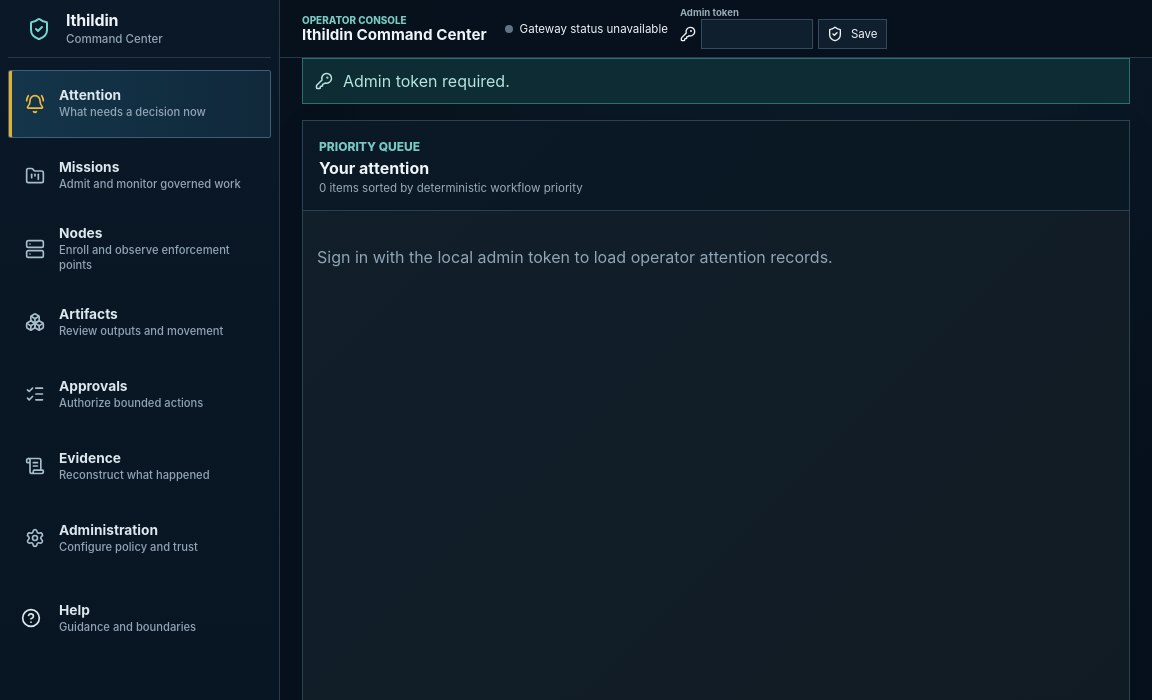
it: Review console interactions › blocks handoff reliance when selected run detail and evidence revisions differ
Step 1. Type "local-token" into the password field labelled "Admin token" → x=757, y=34, box top-left (701, 19), bottom-right (813, 49)
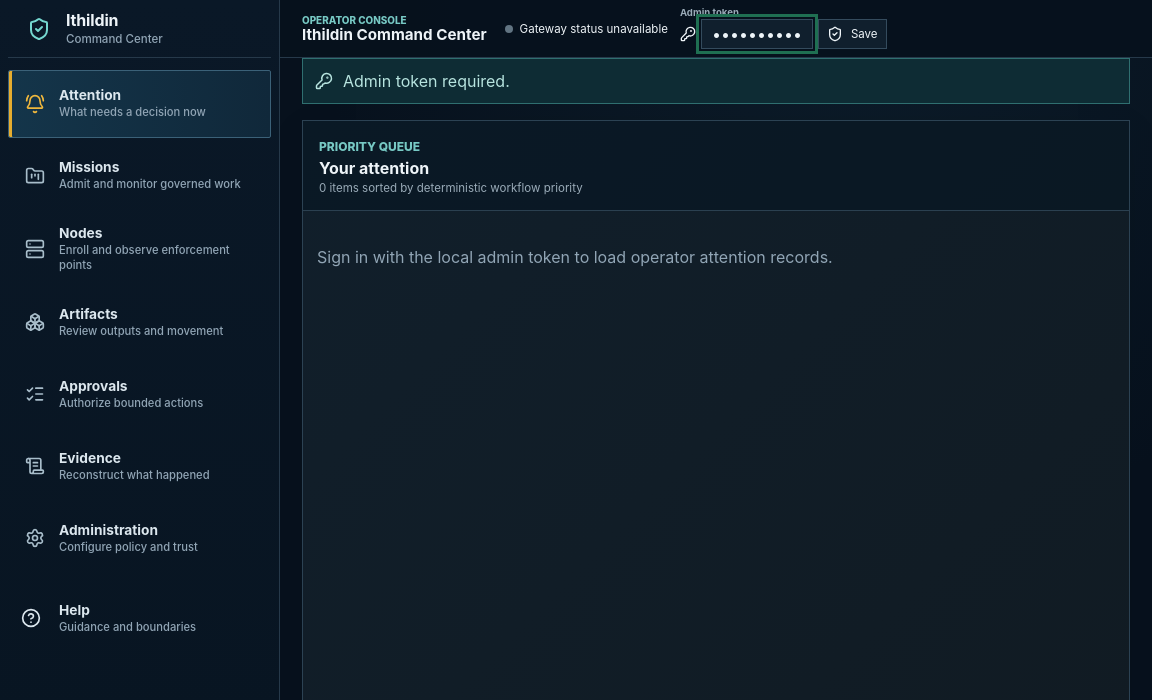
Step 2. Click the button "Save" → x=852, y=34, box top-left (818, 19), bottom-right (887, 49)
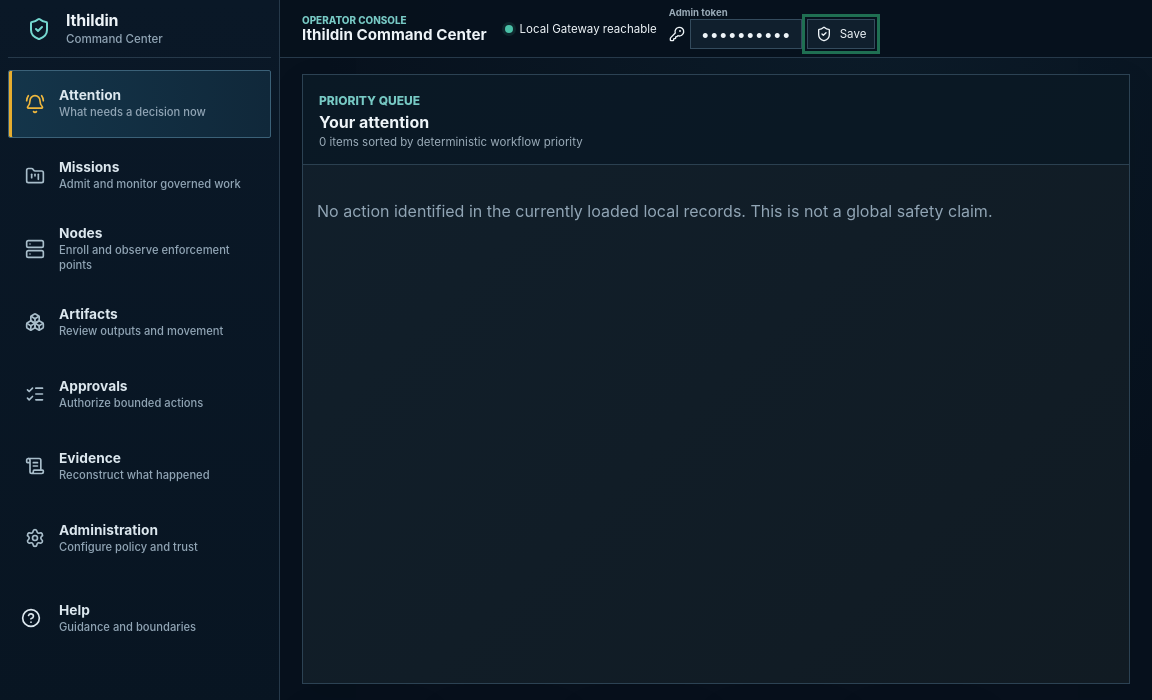
Step 3. Click the link "Missions Admit and monitor governed work" → x=133, y=175, box top-left (25, 159), bottom-right (241, 191)
(page scrolled)
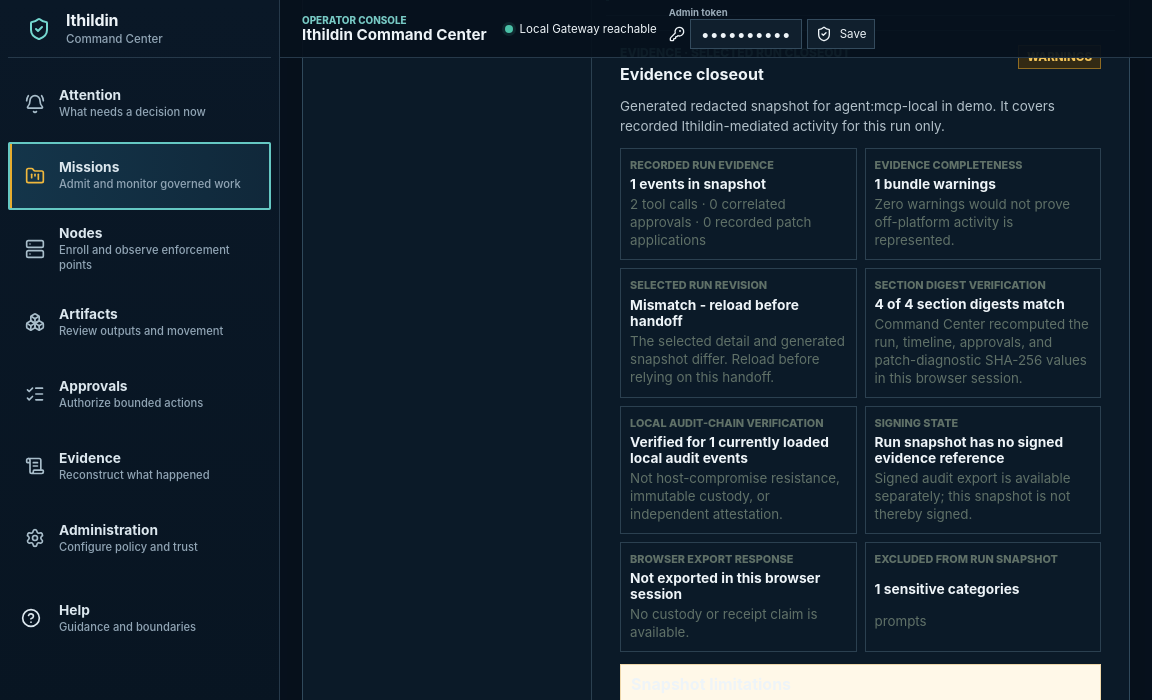
Expected: the text "Mismatch - reload before handoff" is shown, top-left (630, 297), bottom-right (799, 329)
Expected: the text "selected detail and generated snapshot differ" is shown, top-left (630, 333), bottom-right (845, 385)
